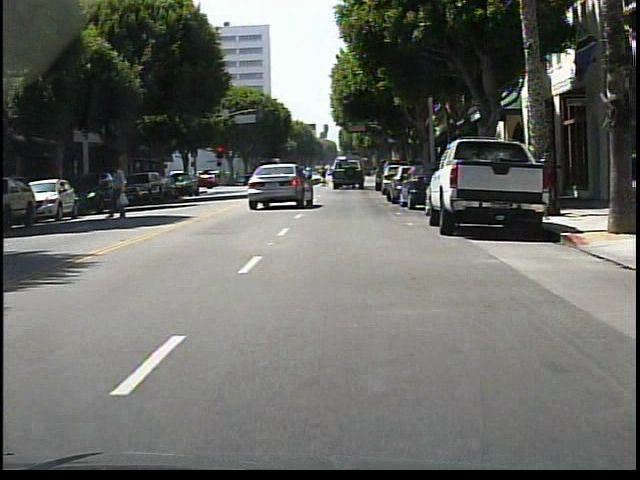person: (111, 161, 133, 222), (303, 167, 314, 189), (320, 165, 330, 189)
